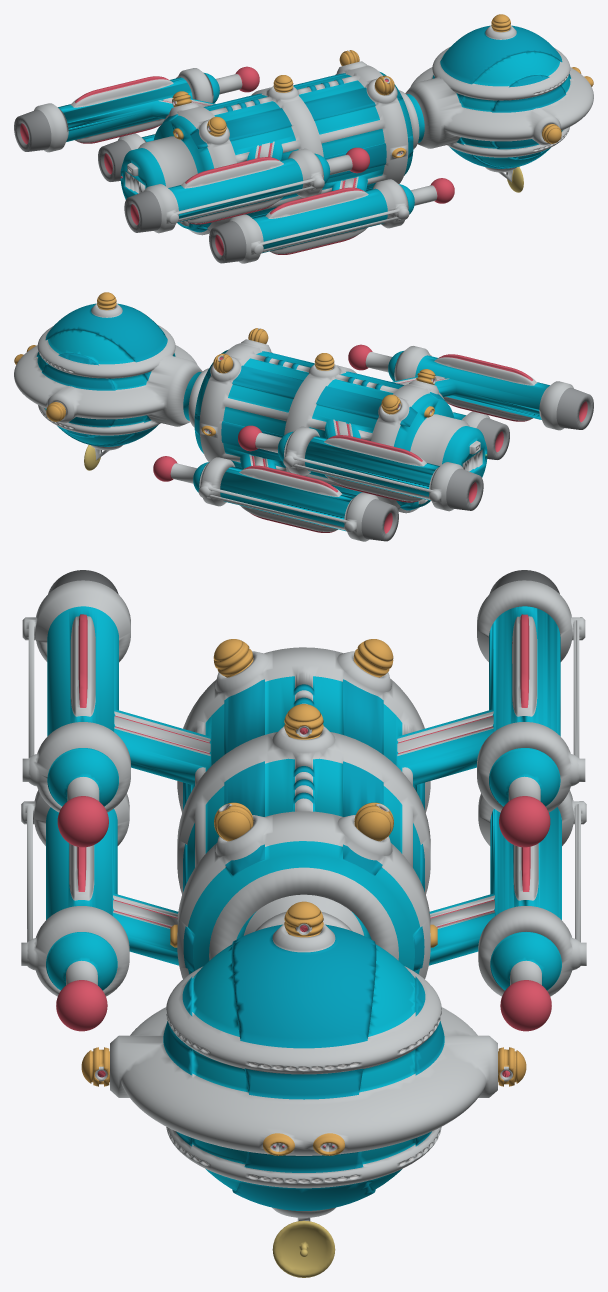
The model's file is ear-federation.glb.
3 renders of one model, top to bottom at view 1: azimuth 30°, elevation 25°; view 2: azimuth 150°, elevation 25°; view 3: azimuth 270°, elevation 25°, orthographic. The views are drawn at different scales.
Visible parts, largest first — view 1: Federation current hull - authored COLOR_0 regions; view 2: Federation current hull - authored COLOR_0 regions; view 3: Federation current hull - authored COLOR_0 regions.
Part boxes in pixels (<box>): Federation current hull - authored COLOR_0 regions: <box>14,14,593,263</box>; Federation current hull - authored COLOR_0 regions: <box>14,292,593,541</box>; Federation current hull - authored COLOR_0 regions: <box>21,570,586,1277</box>.
Size of the model in its own units: 8.16 by 2.77 by 3.95.
